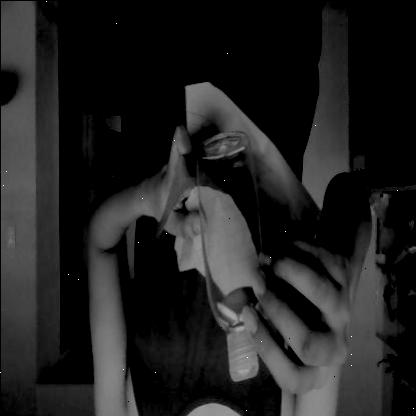Plastic Bottle: (189, 131, 267, 396)
